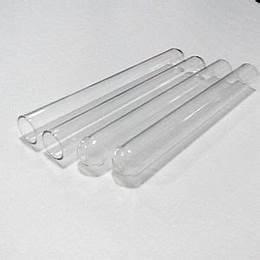Test tube: (17, 38, 253, 207)
